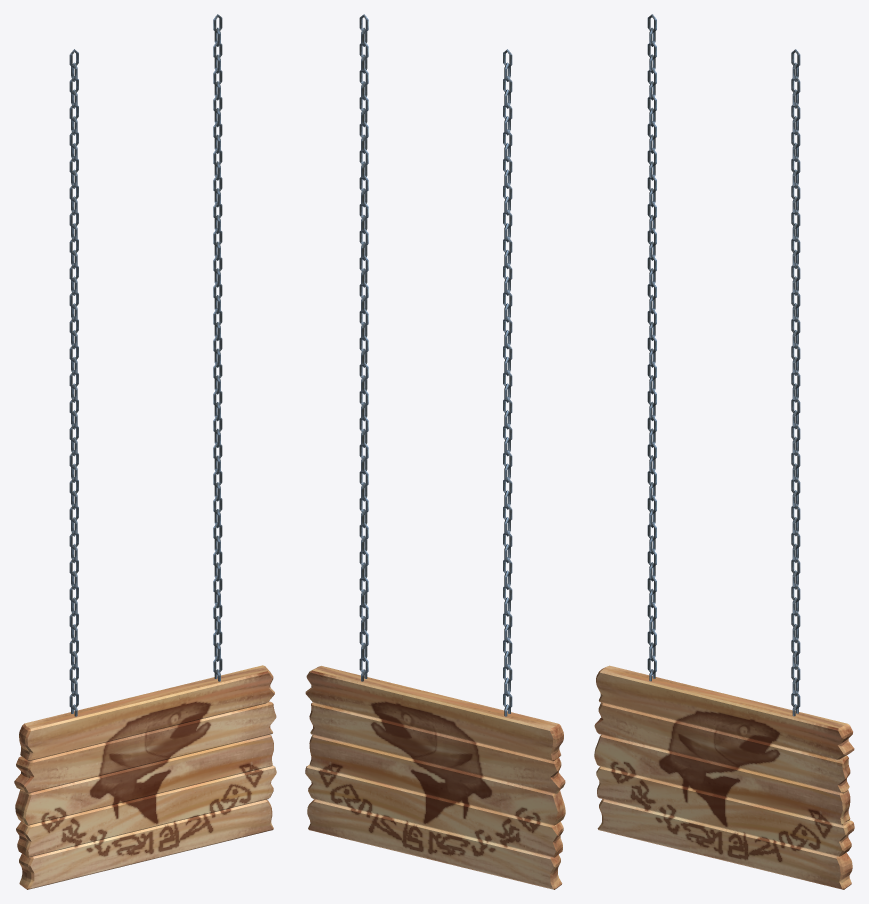
File: Sign.obj
3 renders of one model, left to right at view 1: azimuth 30°, elevation 25°; view 2: azimuth 150°, elevation 25°; view 3: azimuth 330°, elevation 25°, orthographic.
Parts seen in each view (by area): view 1: Sign, Chain; view 2: Sign, Chain; view 3: Sign, Chain.
Boxes of the visible parts, x1=… form: Sign: x1=14, y1=665, x2=276, y2=889; Chain: x1=69, y1=14, x2=222, y2=716; Sign: x1=305, y1=666, x2=565, y2=889; Chain: x1=359, y1=14, x2=512, y2=716; Sign: x1=594, y1=665, x2=854, y2=889; Chain: x1=647, y1=14, x2=800, y2=716.
Size of the model in its own units: 0.1999 by 0.6182 by 0.012.
2 materials, 2 textured.
